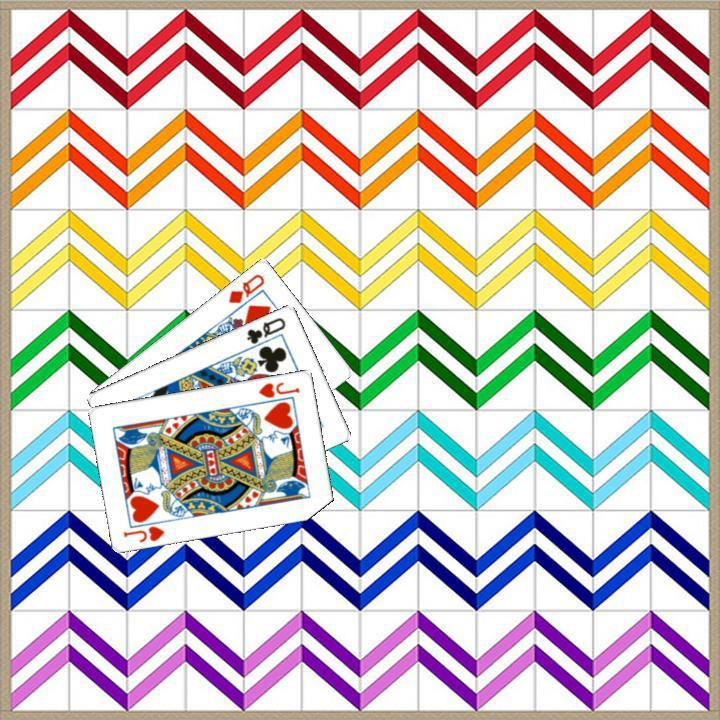J: (119, 521, 166, 544), (254, 377, 302, 399)
Q: (242, 312, 288, 346), (224, 269, 267, 305)
